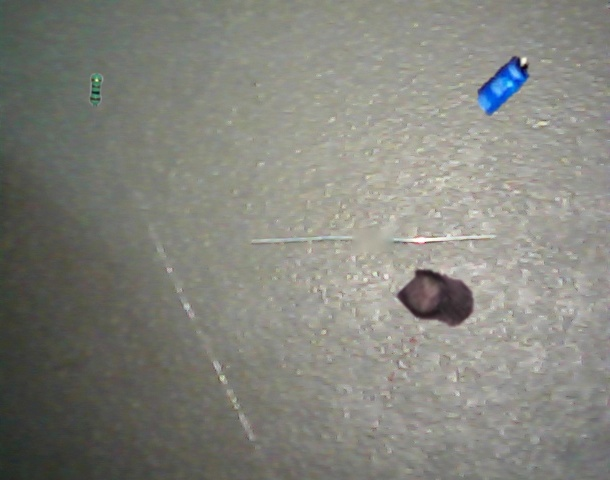capacitor: (397, 269, 474, 327), (477, 56, 530, 116)
resistor: (90, 74, 103, 106)
